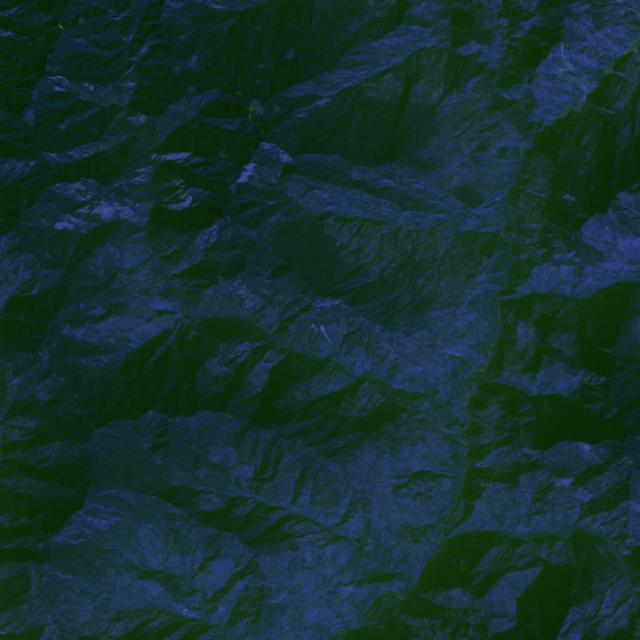landslides: (444, 349, 476, 370), (565, 75, 594, 95), (596, 31, 621, 54), (560, 42, 577, 73), (584, 57, 609, 71), (560, 84, 580, 99), (616, 0, 637, 9), (554, 479, 571, 488), (322, 327, 331, 342)
